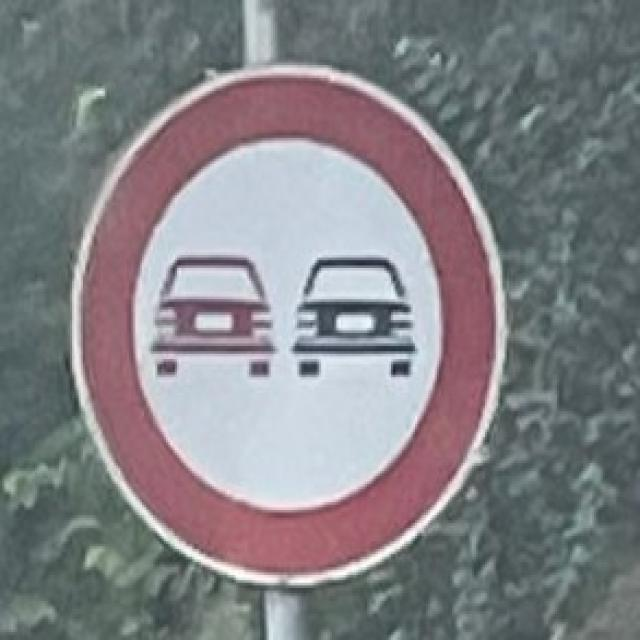forb_overtake: (66, 62, 509, 589)
